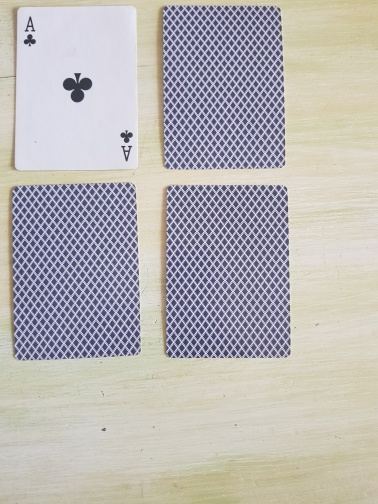ace: (12, 6, 139, 172)
